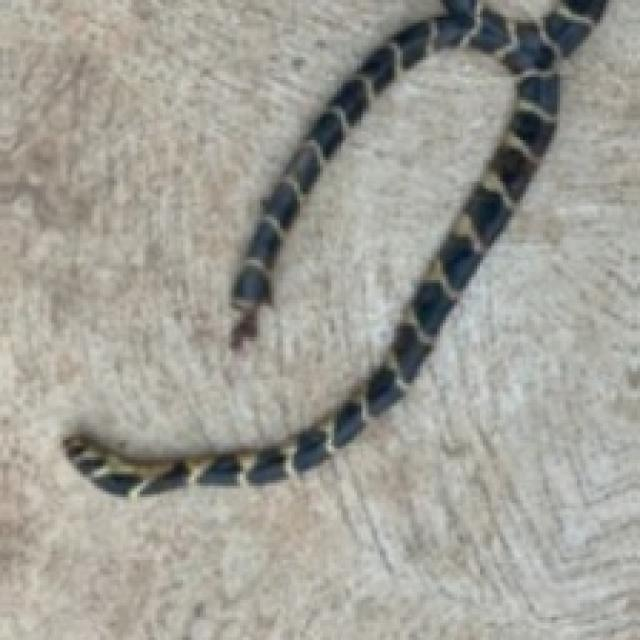king cobra: (63, 0, 603, 494)
